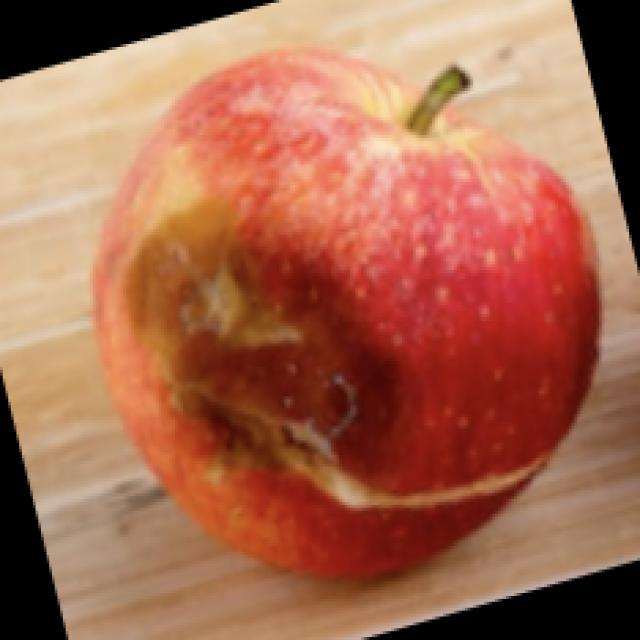Rotten: (88, 50, 590, 593)
